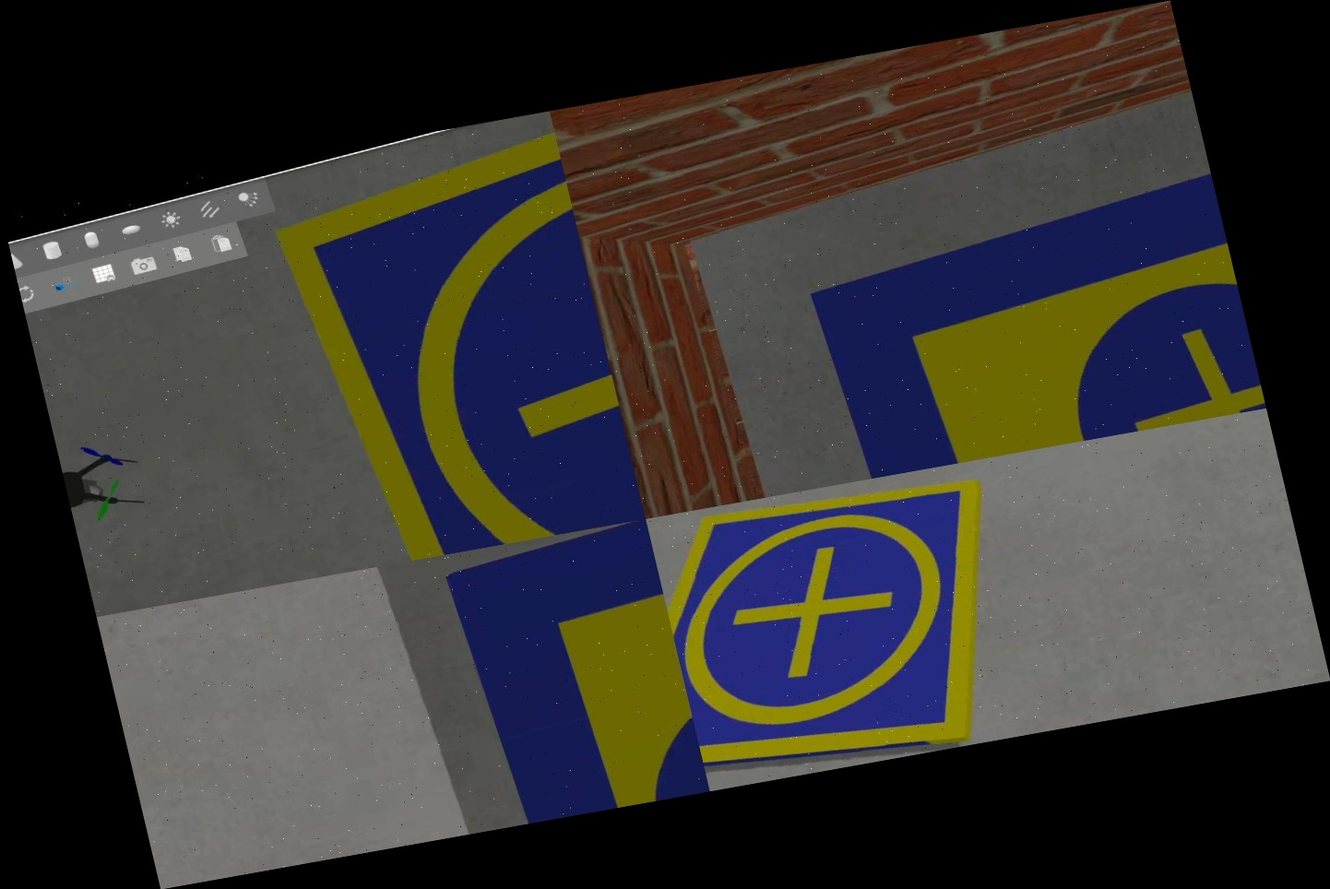large_base: (784, 140, 1265, 483), (438, 518, 710, 827)
small_base: (253, 111, 646, 572), (646, 455, 1068, 790)
